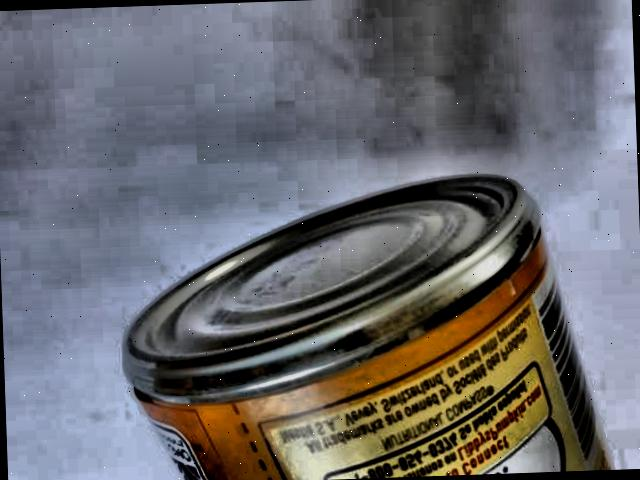Almennt: (117, 164, 576, 480)
